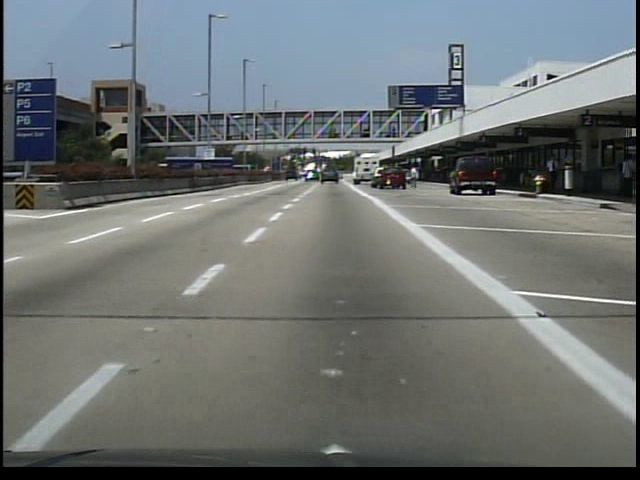person: (542, 154, 562, 198), (408, 168, 423, 190)
